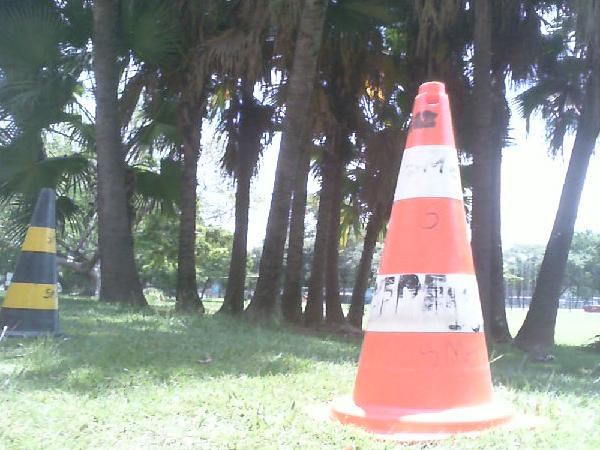0 cone: (300, 80, 553, 445), (0, 188, 72, 340)
